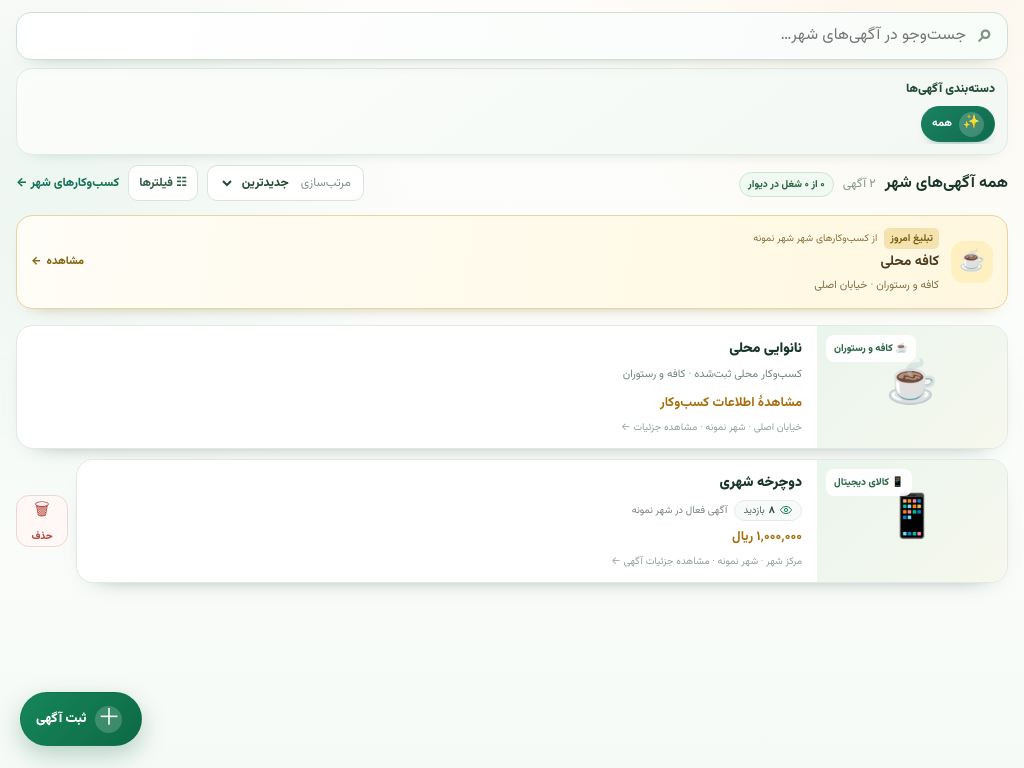
Scenario: CityClassifieds (دیوار شهر) › shows a delete button beside each ad for managers and refreshes after confirmed deletion
The width and height of the screenshot is (1024, 768).
Click the button with test id "admin-delete-ad-1" at (42, 521), box x1=16 y1=494 x2=68 y2=547
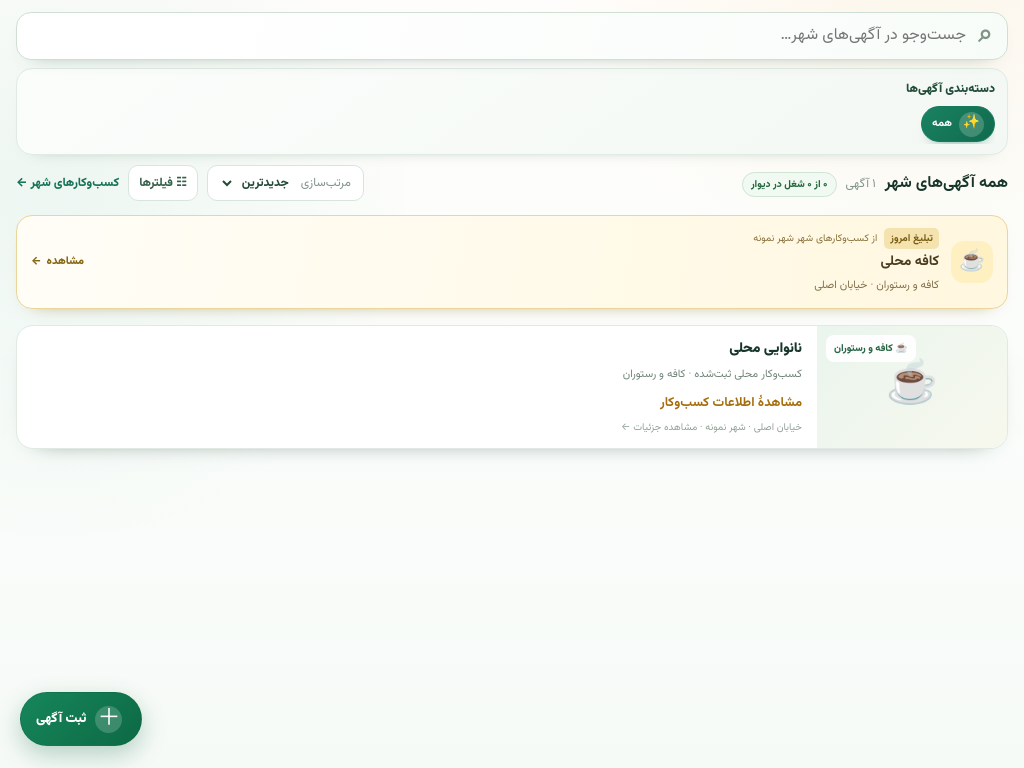
expect the button with test id "admin-delete-ad-1" is gone: met
